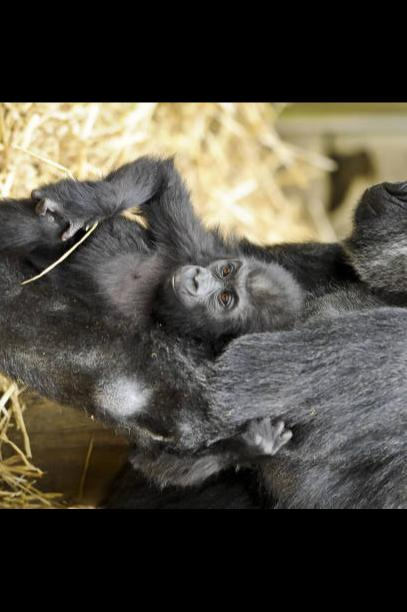gorille_Autres: (0, 150, 296, 480), (270, 102, 407, 509)
